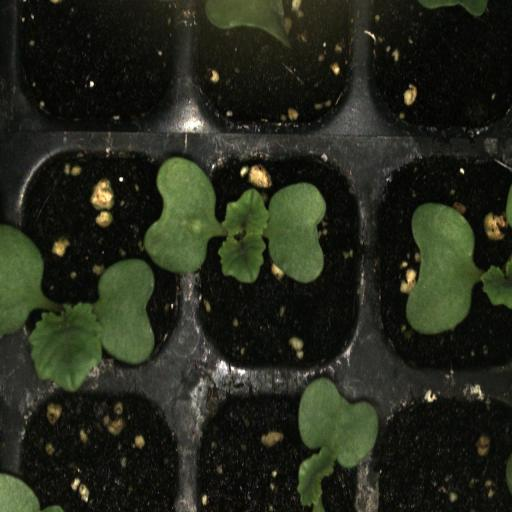noseedling: (6, 0, 194, 142)
seedling: (11, 143, 194, 383), (194, 148, 368, 383), (370, 148, 512, 384)
